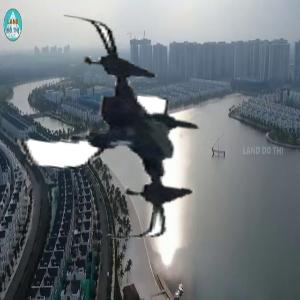drone: (11, 24, 228, 241)
